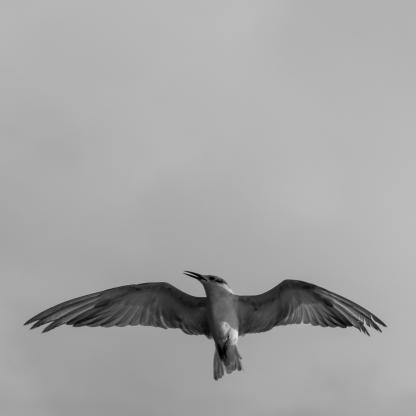bird: (24, 270, 387, 382)
